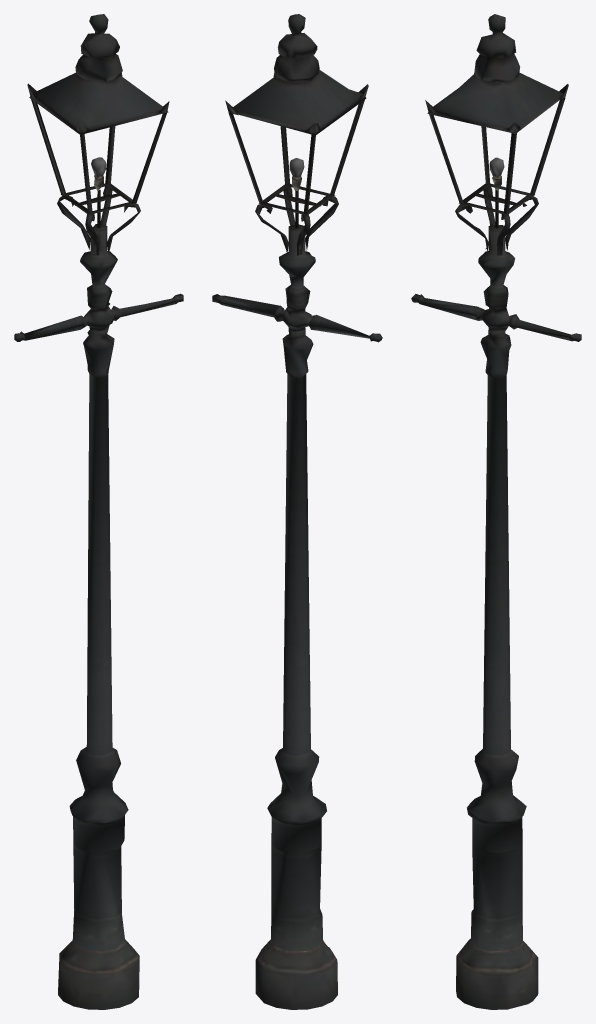
The model's file is street_lamp.glb.
3 views of the same model, side by side, from view 1: azimuth 30°, elevation 25°; view 2: azimuth 150°, elevation 25°; view 3: azimuth 330°, elevation 25° (orthographic).
Visible parts, largest first — view 1: street_lamp; view 2: street_lamp; view 3: street_lamp.
Boxes of the visible parts, x1,y1,x2,y2 form: street_lamp: [14, 14, 183, 1009]; street_lamp: [212, 14, 382, 1009]; street_lamp: [411, 14, 581, 1009].
Bounding box in the file's own units: 0.7 × 3.87 × 0.3854.
1 material, 1 textured.
